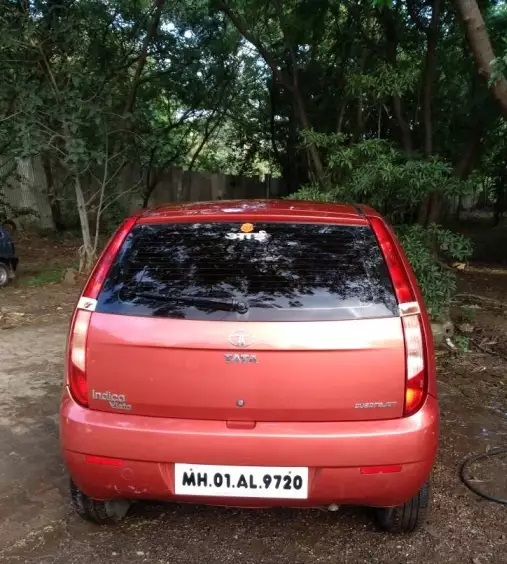licenseplate: (169, 461, 313, 503)
